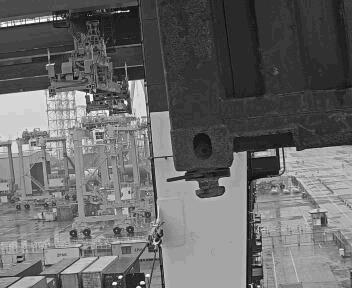twist_lock_1: (161, 167, 221, 203)
